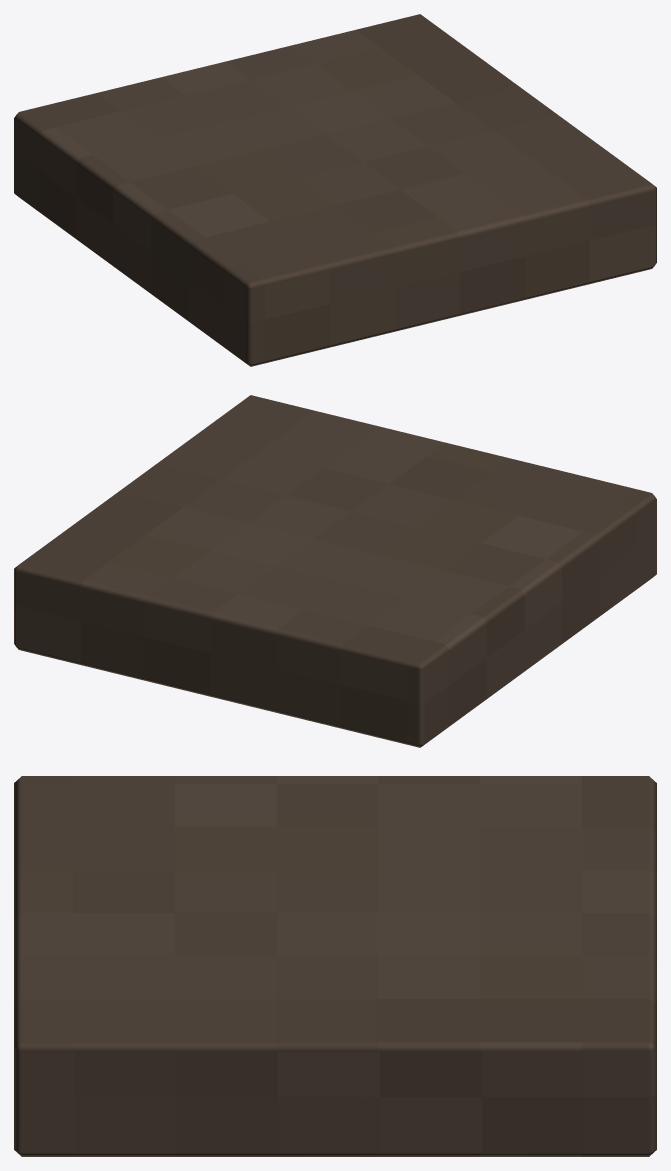
The model's file is Lantern-crown.glb.
3 views of the same model, one above another, from view 1: azimuth 30°, elevation 25°; view 2: azimuth 150°, elevation 25°; view 3: azimuth 270°, elevation 25° (orthographic). The views are drawn at different scales.
Parts seen in each view (by area): view 1: Lantern-crown; view 2: Lantern-crown; view 3: Lantern-crown.
Part boxes in pixels (x1,y1,x2,y2): Lantern-crown: [14, 14, 656, 366]; Lantern-crown: [14, 395, 656, 747]; Lantern-crown: [14, 776, 656, 1156].
Size of the model in its own units: 0.247 by 0.049 by 0.247.
Materials: 1 (1 with a texture image).
